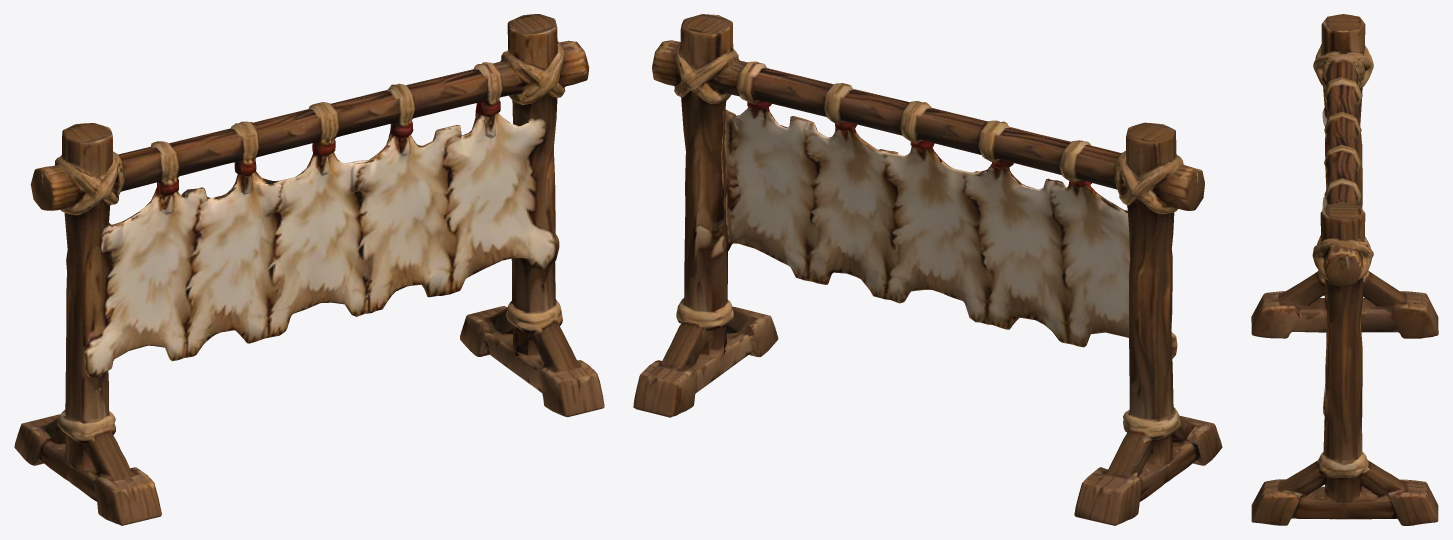
Rendered from sheepskin-rack.glb.
3 views of the same model, side by side, from view 1: azimuth 30°, elevation 25°; view 2: azimuth 150°, elevation 25°; view 3: azimuth 270°, elevation 25° (orthographic). The views are drawn at different scales.
Visible parts, largest first — view 1: 1_output_1793795051758818_EeTaUHCLY; view 2: 1_output_1793795051758818_EeTaUHCLY; view 3: 1_output_1793795051758818_EeTaUHCLY.
Boxes of the visible parts, x1=… form: 1_output_1793795051758818_EeTaUHCLY: x1=14, y1=14, x2=604, y2=525; 1_output_1793795051758818_EeTaUHCLY: x1=633, y1=14, x2=1222, y2=525; 1_output_1793795051758818_EeTaUHCLY: x1=1251, y1=14, x2=1438, y2=525.
Size of the model in its own units: 1.99 by 1.25 by 0.6914.
1 material, 1 textured.
